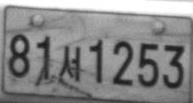1: (86, 38, 110, 83), (34, 35, 57, 80)
2: (111, 40, 133, 86)
3: (162, 43, 186, 89)
5: (136, 42, 159, 87)
8: (6, 33, 30, 78)
서: (58, 45, 81, 81)
